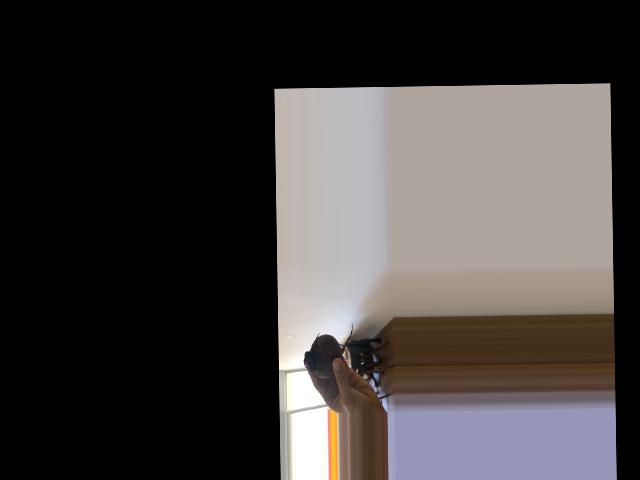beet: (303, 321, 353, 378)
